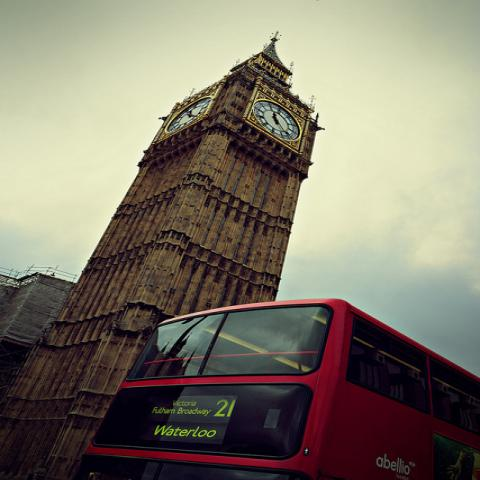bus: (71, 299, 477, 472)
